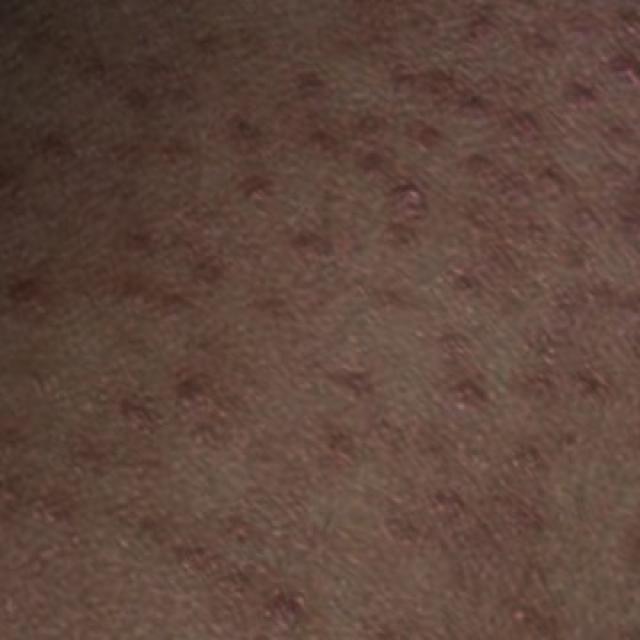keratosis pilaris: (0, 0, 601, 468)
